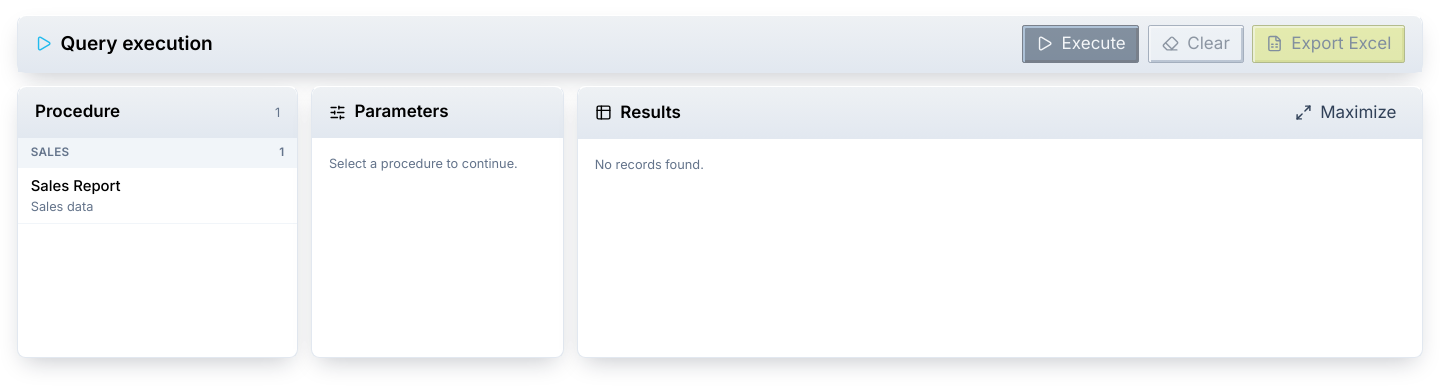
Test: executing with valid parameters renders the results grid
Click the option "Sales Report Sales data": {"x": 76, "y": 186} top-left (18, 168), bottom-right (297, 224)
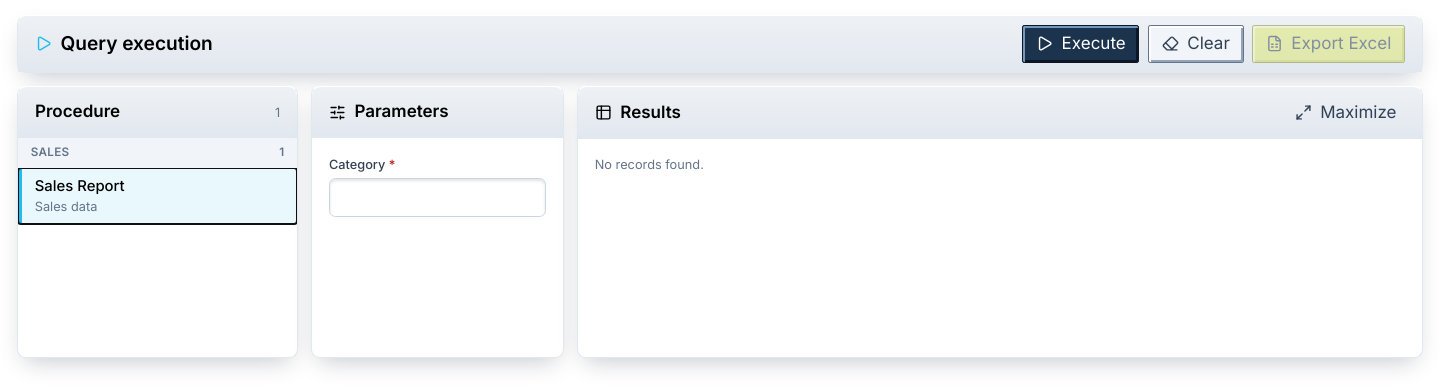
In the field labelled "Category": {"x": 437, "y": 198} top-left (329, 178), bottom-right (546, 217), type "Widgets"
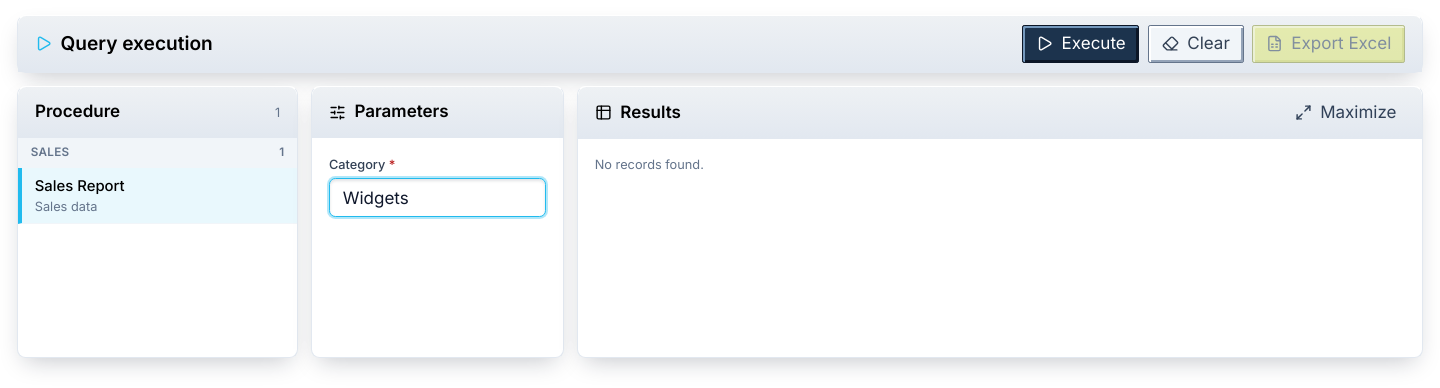
Click the button "Execute": {"x": 1081, "y": 44} top-left (1022, 24), bottom-right (1140, 63)
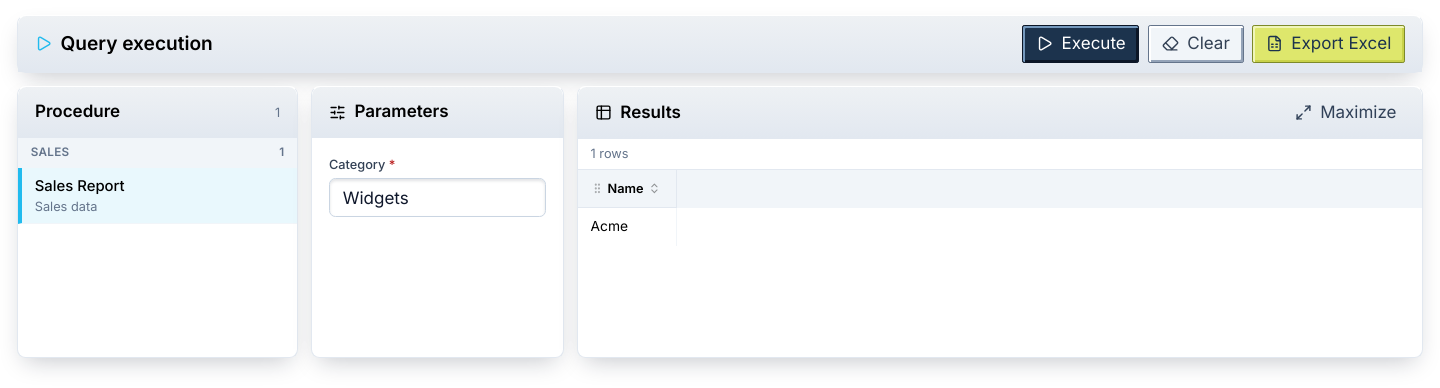
expect the text "Acme" is shown: met, box top-left (578, 208), bottom-right (677, 246)
